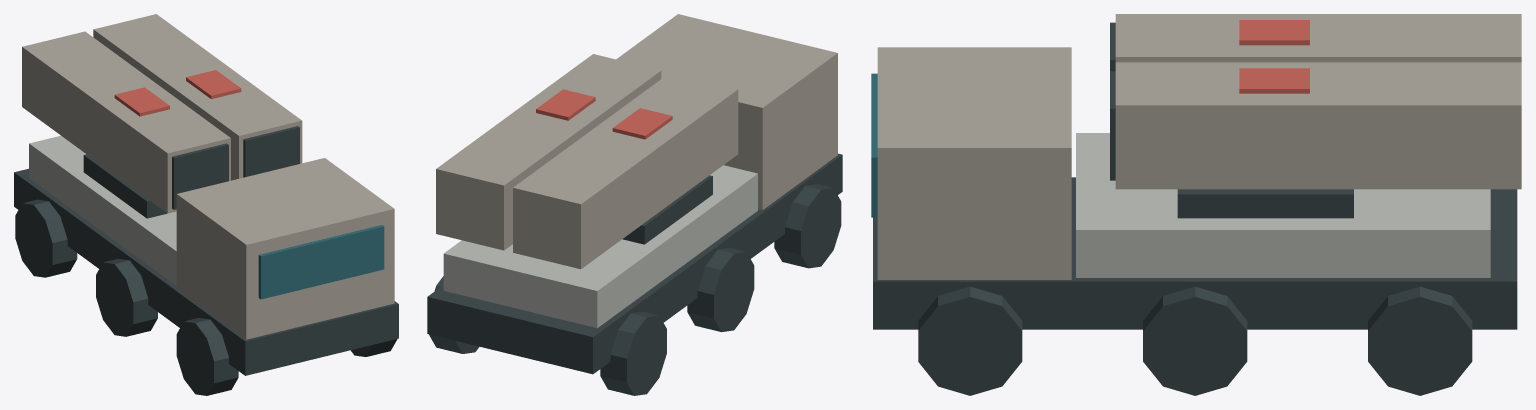
File: MIL_MissileTruck_2.fbx
The picture shows the model from 3 angles, left to right: view 1: azimuth 30°, elevation 25°; view 2: azimuth 150°, elevation 25°; view 3: azimuth 270°, elevation 25°; orthographic projection. The views are drawn at different scales.
Visible parts, largest first — view 1: ElevationPivot.001_MAT_IslandCliff, Cabin, MIL_MissileTruck_2_Gunmetal, Bed, Windshield, ElevationPivot.001_Gunmetal, ElevationPivot.001_MAT_IslandRed, TraverseDeck; view 2: ElevationPivot.001_MAT_IslandCliff, MIL_MissileTruck_2_Gunmetal, Cabin, Bed, ElevationPivot.001_MAT_IslandRed, TraverseDeck; view 3: ElevationPivot.001_MAT_IslandCliff, MIL_MissileTruck_2_Gunmetal, Cabin, Bed, TraverseDeck, ElevationPivot.001_MAT_IslandRed, Windshield, ElevationPivot.001_Gunmetal.
Part boxes in pixels (x1,y1,x2,y2): ElevationPivot.001_MAT_IslandCliff: (22, 14, 302, 213); Cabin: (176, 158, 394, 339); MIL_MissileTruck_2_Gunmetal: (14, 168, 398, 395); Bed: (29, 135, 176, 285); Windshield: (258, 225, 384, 299); ElevationPivot.001_Gunmetal: (172, 126, 299, 209); ElevationPivot.001_MAT_IslandRed: (114, 70, 241, 116); TraverseDeck: (83, 154, 166, 218); ElevationPivot.001_MAT_IslandCliff: (436, 54, 738, 269); MIL_MissileTruck_2_Gunmetal: (427, 153, 842, 395); Cabin: (616, 14, 837, 209); Bed: (443, 165, 757, 328); ElevationPivot.001_MAT_IslandRed: (536, 89, 672, 139); TraverseDeck: (622, 175, 712, 244); ElevationPivot.001_MAT_IslandCliff: (1115, 14, 1521, 189); MIL_MissileTruck_2_Gunmetal: (873, 177, 1517, 395); Cabin: (877, 47, 1071, 279); Bed: (1076, 133, 1490, 277); TraverseDeck: (1177, 189, 1353, 218); ElevationPivot.001_MAT_IslandRed: (1239, 20, 1309, 93); Windshield: (871, 73, 877, 217); ElevationPivot.001_Gunmetal: (1110, 22, 1115, 180).
Size of the model in its own units: 335 by 349 by 737.
